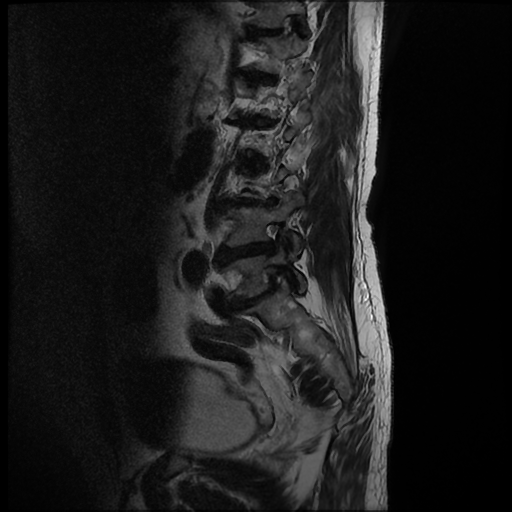LFS1: (255, 214, 290, 259)
